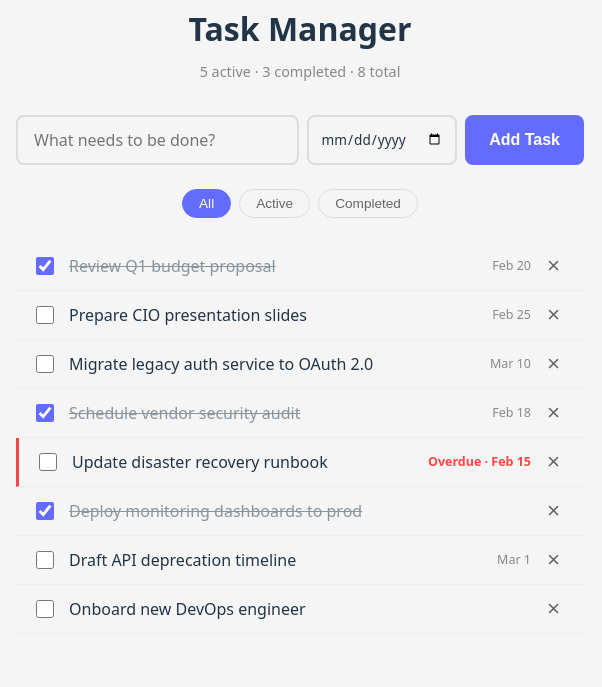
Test case: Task Manager — End to End › adds a new task with a due date
Type "Task with deadline" into the field with placeholder "What needs to be done?" at (157,140), box [16,115,299,165]
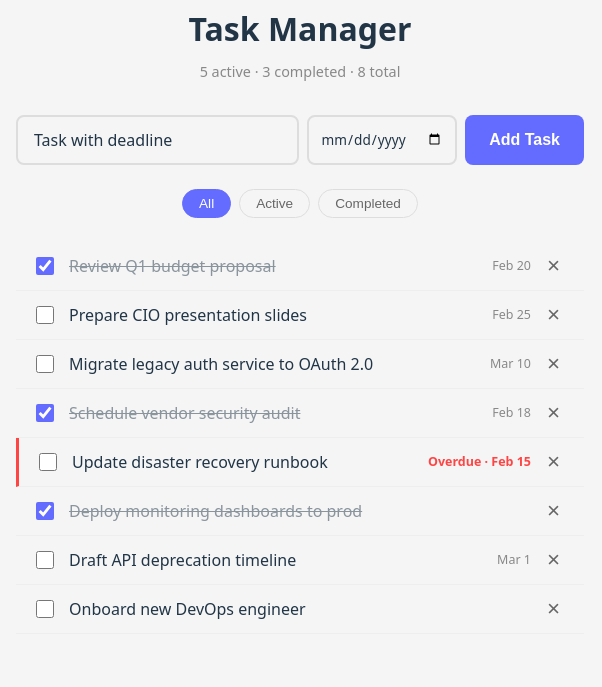
Type "2026-12-25" into the date field with class "date-input" at (382,140), box [307,115,457,165]
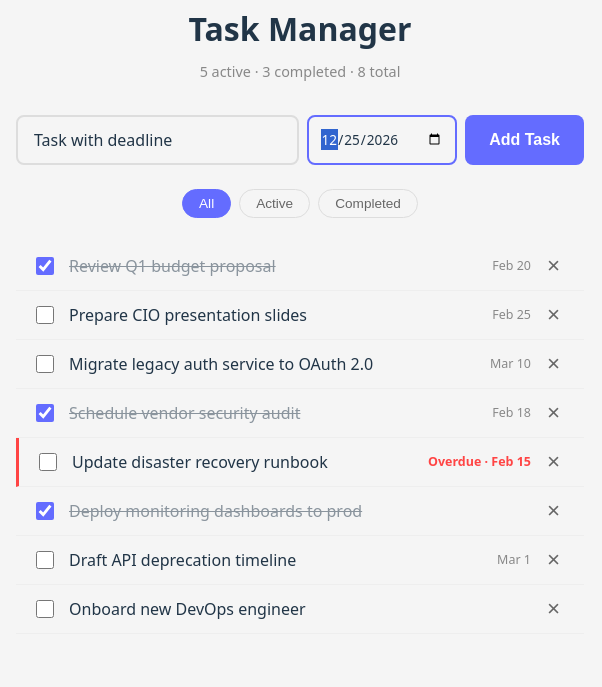
Click the button "Add Task" at (525,140), box [465,115,584,165]
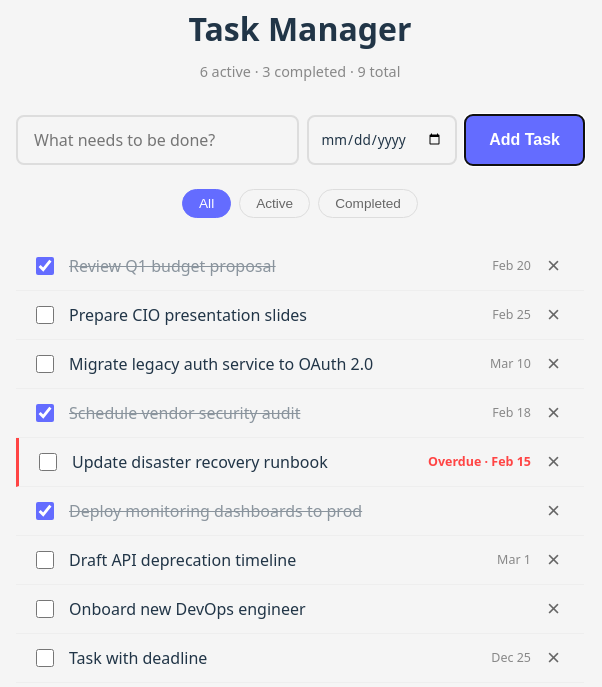
expect the text "Task with deadline" is shown: met, box [69,646,207,670]
expect the text "Dec 25" is shown: met, box [491,649,531,668]
